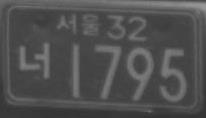1: (61, 41, 90, 99)
2: (128, 14, 149, 42)
3: (105, 13, 127, 40)
5: (157, 46, 189, 103)
7: (90, 42, 123, 100)
9: (123, 45, 156, 102)
너: (17, 41, 51, 80)
서울_O: (55, 12, 101, 36)
